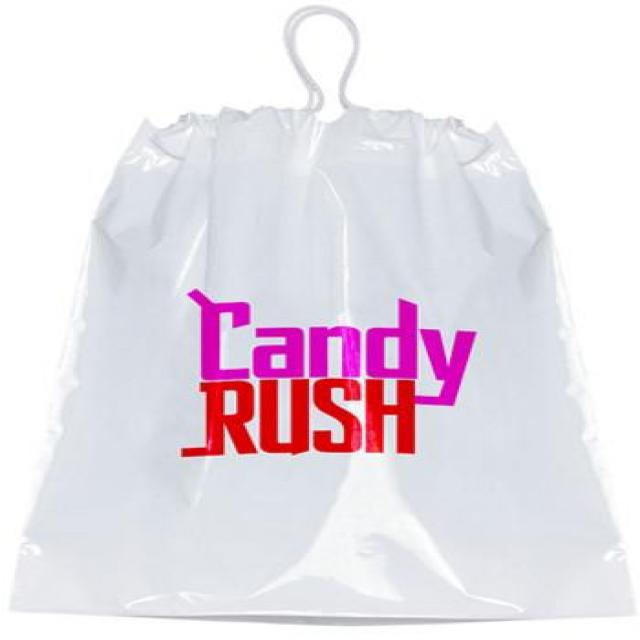plastic_bag: (31, 8, 635, 635)
